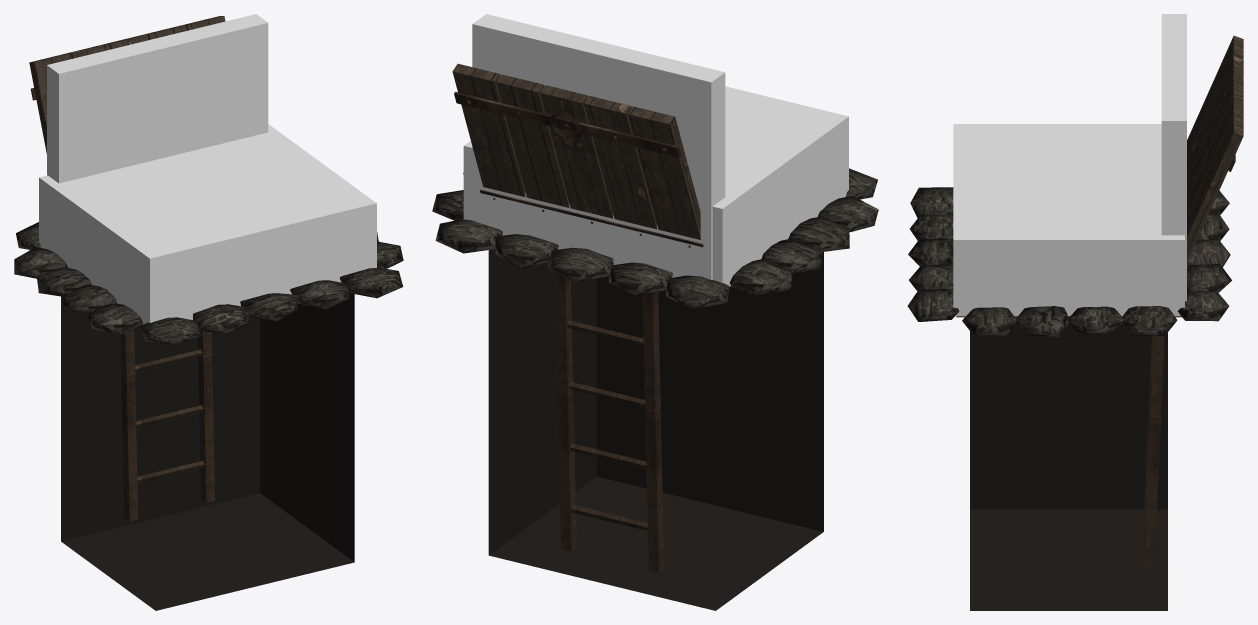
Rendered from trapdoor_ashen_coast_opened.glb.
3 views of the same model, side by side, from view 1: azimuth 30°, elevation 25°; view 2: azimuth 150°, elevation 25°; view 3: azimuth 270°, elevation 25° (orthographic). The views are drawn at different scales.
Parts seen in each view (by area): view 1: surround, col_click, col_trapdoor_lid, lid; view 2: surround, lid, col_trapdoor_lid, col_click; view 3: surround, col_click, lid, col_trapdoor_lid.
Boxes of the visible parts, x1,y1,x2,y2 form: surround: (14, 222, 403, 610); col_click: (39, 124, 376, 324); col_trapdoor_lid: (47, 14, 268, 183); lid: (29, 16, 225, 153); surround: (432, 168, 878, 610); lid: (452, 63, 703, 247); col_trapdoor_lid: (472, 14, 725, 279); col_click: (463, 86, 848, 286); surround: (907, 187, 1231, 610); col_click: (953, 124, 1184, 316); lid: (1187, 35, 1243, 269); col_trapdoor_lid: (1161, 14, 1186, 301).
Bounding box in the file's own units: 1.8 × 2.58 × 1.59.
5 materials, 4 textured.
